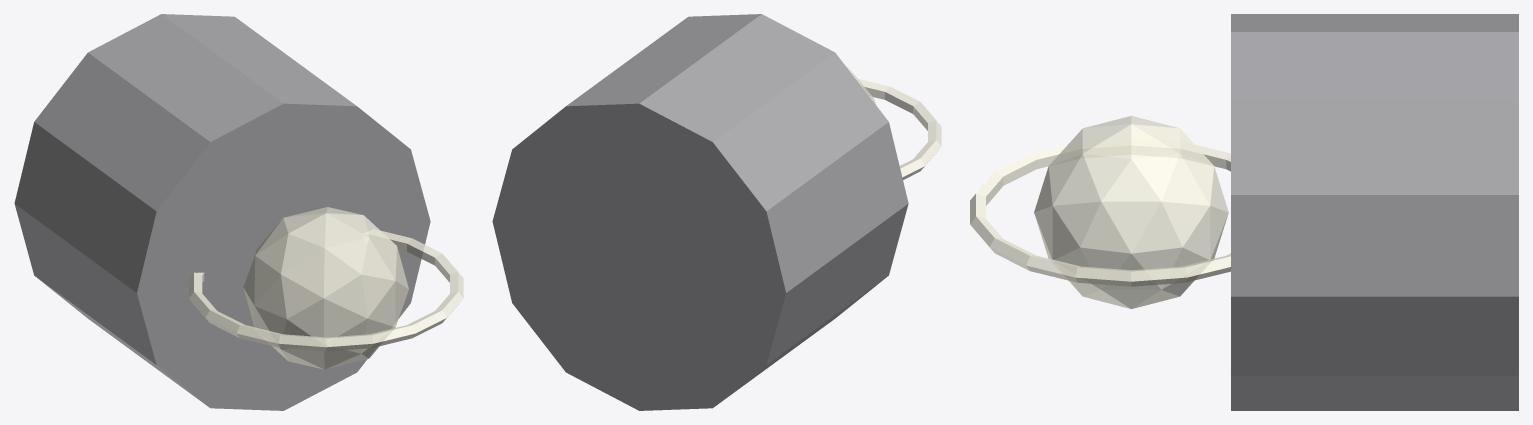
Rendered from archive_projection_dais.glb.
The picture shows the model from 3 angles, left to right: view 1: azimuth 30°, elevation 25°; view 2: azimuth 150°, elevation 25°; view 3: azimuth 270°, elevation 25°; orthographic projection. The views are drawn at different scales.
Visible parts, largest first — view 1: pedestal, story_relic, relic_halo; view 2: pedestal, relic_halo; view 3: pedestal, story_relic, relic_halo.
Part boxes in pixels (x1,y1,x2,y2): pedestal: (14, 14, 430, 410); story_relic: (243, 207, 408, 369); relic_halo: (189, 229, 463, 351); pedestal: (492, 14, 908, 410); relic_halo: (857, 79, 941, 179); pedestal: (1231, 14, 1518, 410); story_relic: (1034, 115, 1228, 309); relic_halo: (970, 139, 1230, 286).
Size of the model in its own units: 0.9 by 0.9 by 1.24.
